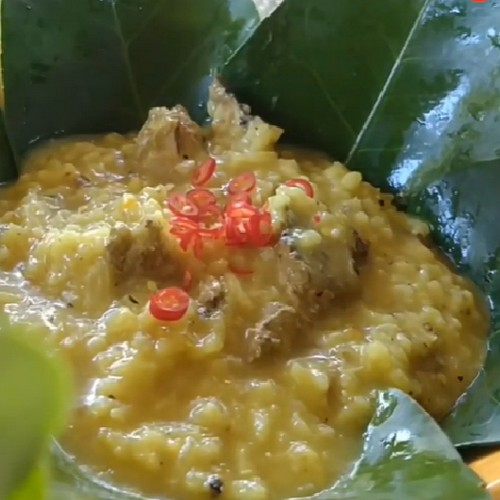bubur mengguh: (10, 89, 439, 459)
